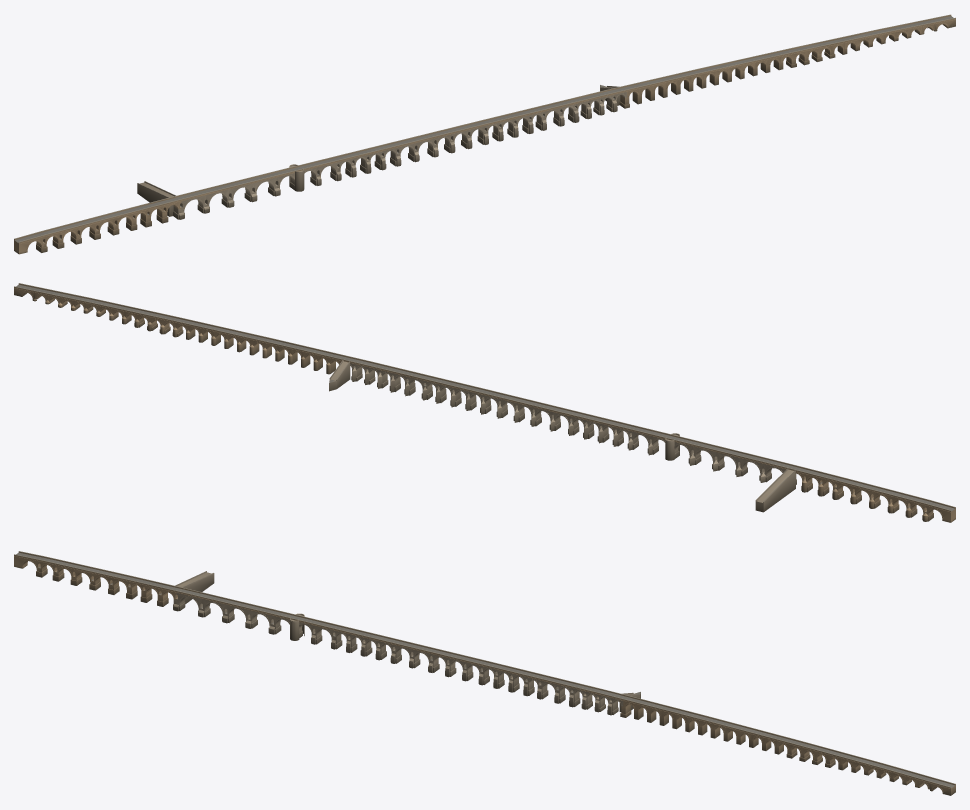
The picture shows the model from 3 angles, top to bottom: view 1: azimuth 30°, elevation 25°; view 2: azimuth 150°, elevation 25°; view 3: azimuth 330°, elevation 25°; orthographic projection.
Parts seen in each view (by area): view 1: puente_romano_de_merida; view 2: puente_romano_de_merida; view 3: puente_romano_de_merida.
Boxes of the visible parts, x1,y1,x2,y2 form: puente_romano_de_merida: [14, 14, 955, 254]; puente_romano_de_merida: [14, 283, 955, 522]; puente_romano_de_merida: [14, 551, 955, 795].
Size of the model in its own units: 784 by 16 by 56.83.
